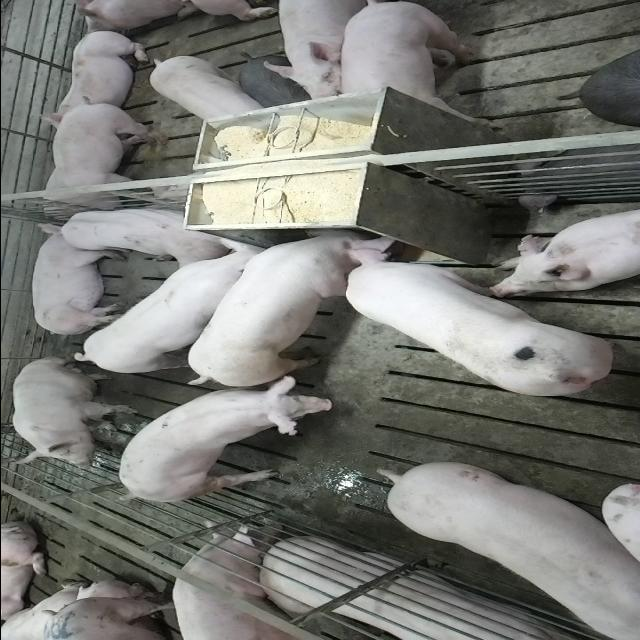Feeding: (338, 240, 620, 399), (178, 219, 382, 383)
Lateral_lying: (253, 539, 606, 640), (28, 222, 128, 338)
Sitting: (8, 356, 136, 468)
Standing: (373, 458, 635, 636), (70, 242, 286, 378), (113, 379, 329, 506), (338, 2, 490, 124), (41, 98, 176, 220), (169, 522, 304, 640), (266, 3, 382, 106), (148, 53, 262, 125)
Sternal_lying: (490, 207, 640, 295), (34, 28, 154, 124), (54, 204, 230, 264)
